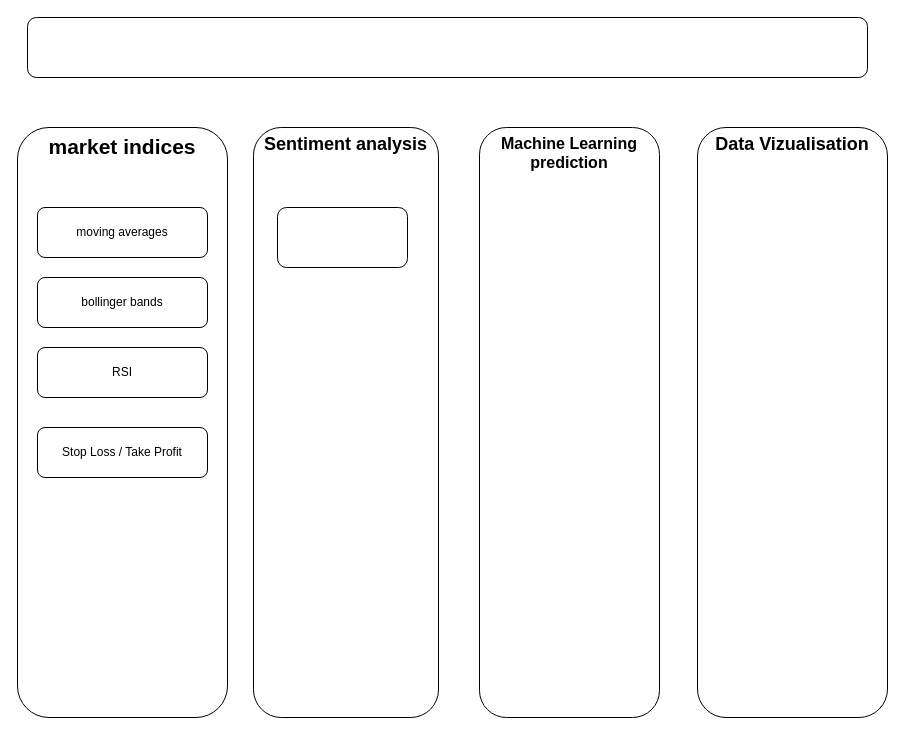
This 905x735 diagram has some shape labels left out. The centre of each missing label's shape, as x and y in pixels:
Scraping news: the point at 342,237
Trading strategy: the point at 447,47
